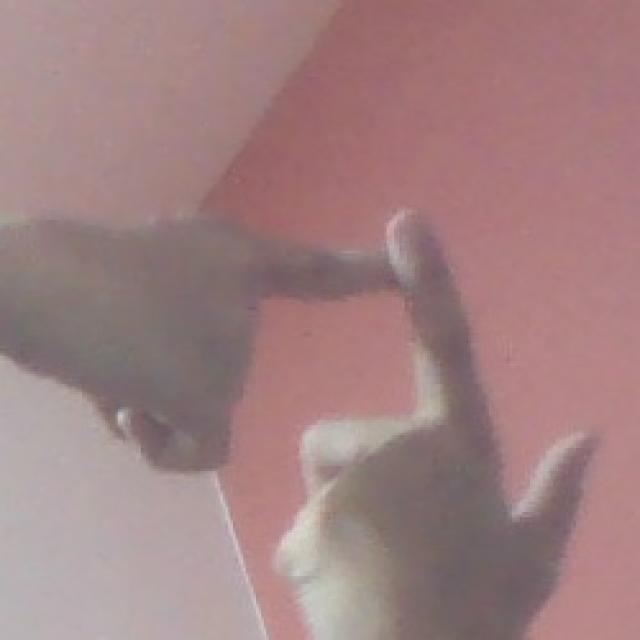Alphabet-J: (0, 120, 585, 624)
